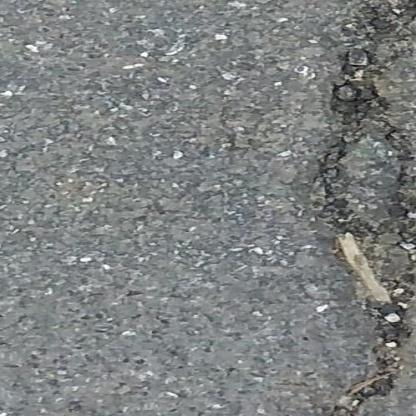Cracks: (318, 0, 416, 416)
